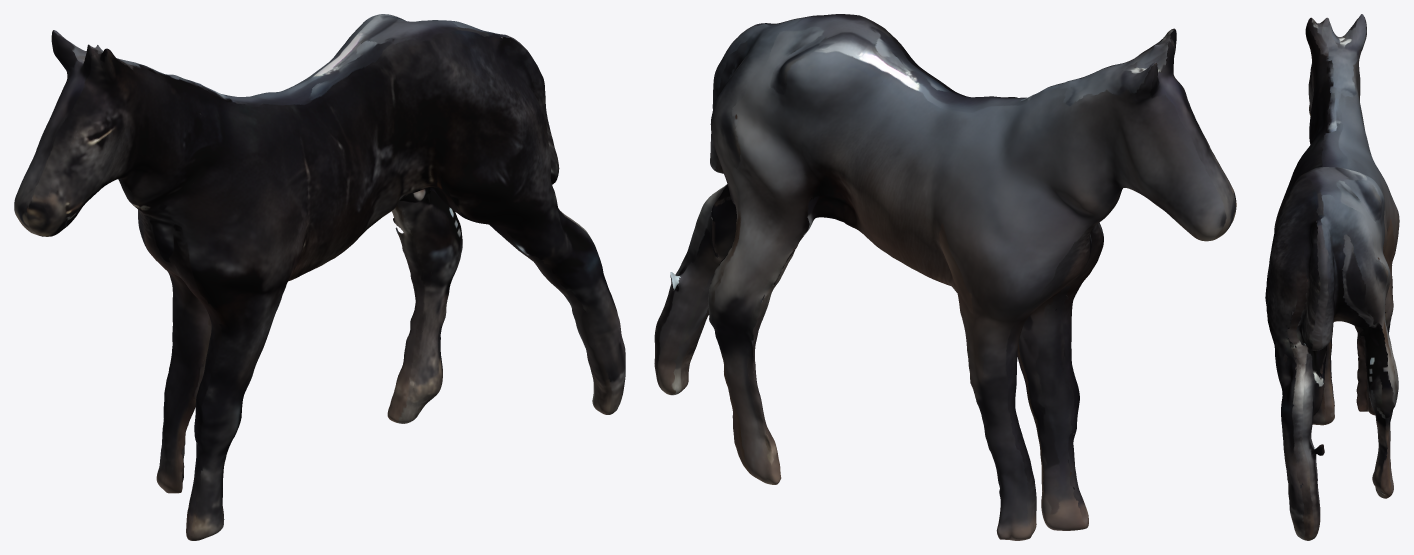
File: bebe.glb
3 renders of one model, left to right at view 1: azimuth 30°, elevation 25°; view 2: azimuth 150°, elevation 25°; view 3: azimuth 270°, elevation 25°, orthographic. The views are drawn at different scales.
Visible parts, largest first — view 1: mesh; view 2: mesh; view 3: mesh.
Part boxes in pixels (x1,y1,x2,y2): mesh: [14, 14, 625, 540]; mesh: [654, 14, 1236, 540]; mesh: [1265, 14, 1399, 540].
Bounding box in the file's own units: 1.64 × 1.37 × 0.4521.
Materials: 1 (1 with a texture image).
